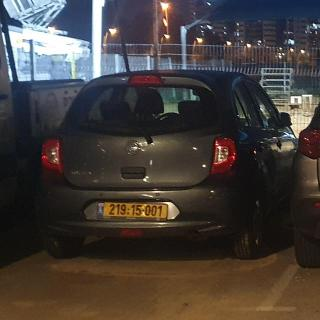LicensePlate: (103, 202, 167, 218)
